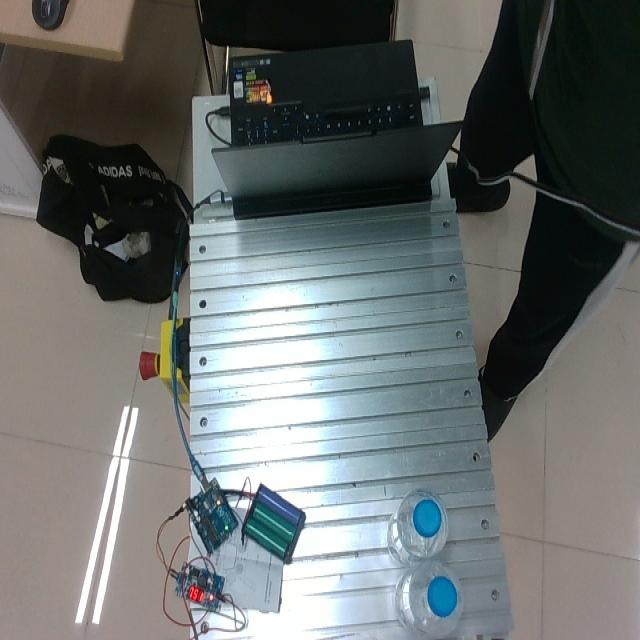lavie: (394, 559, 462, 637), (387, 488, 449, 565)
